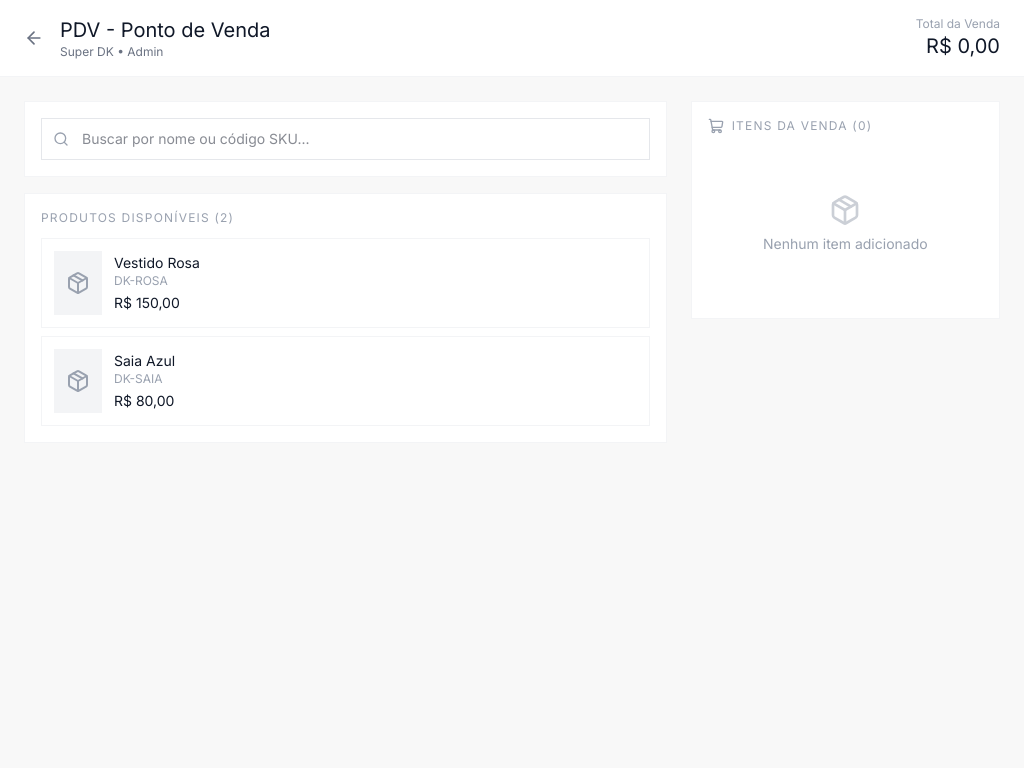
Test: Cashier (PDV) › não abre o fechamento com a venda vazia
The image size is (1024, 768).
Check: the text "Vestido Rosa" is shown, box [114,254,200,271]
Click the button "Vestido Rosa DK-ROSA R$ 150,00" at [78, 283], box [41,238,650,328]
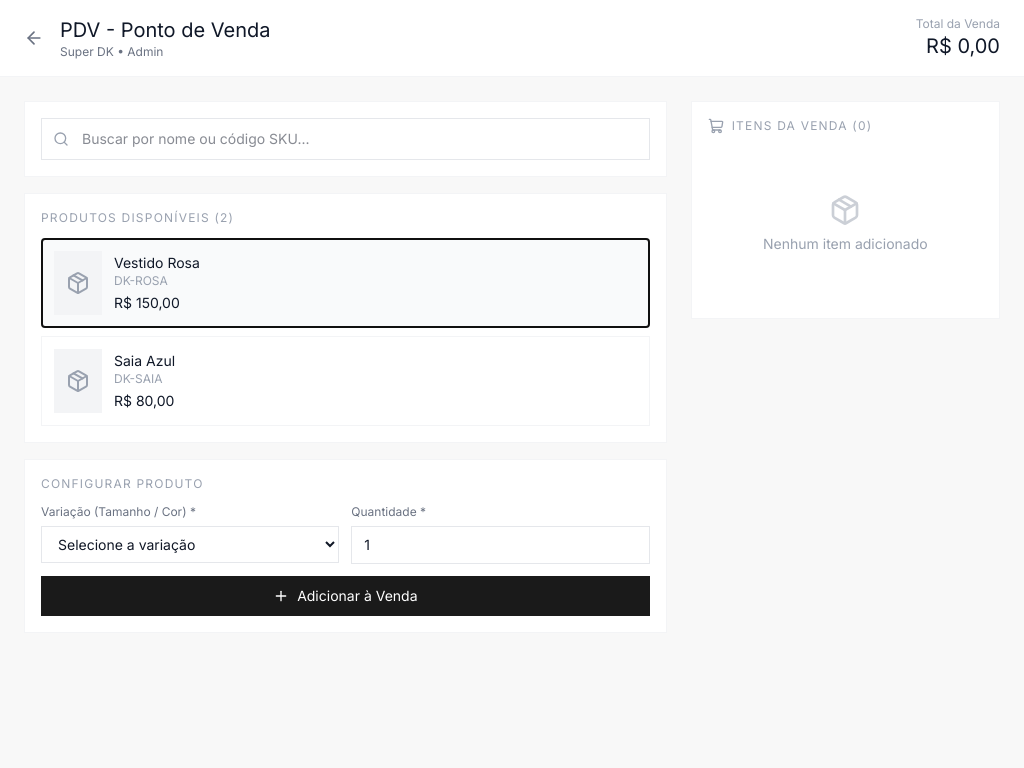
Select "P / Rosa (R$ 200.00)" in the dropdown at [190, 544], box [41,526,339,563]
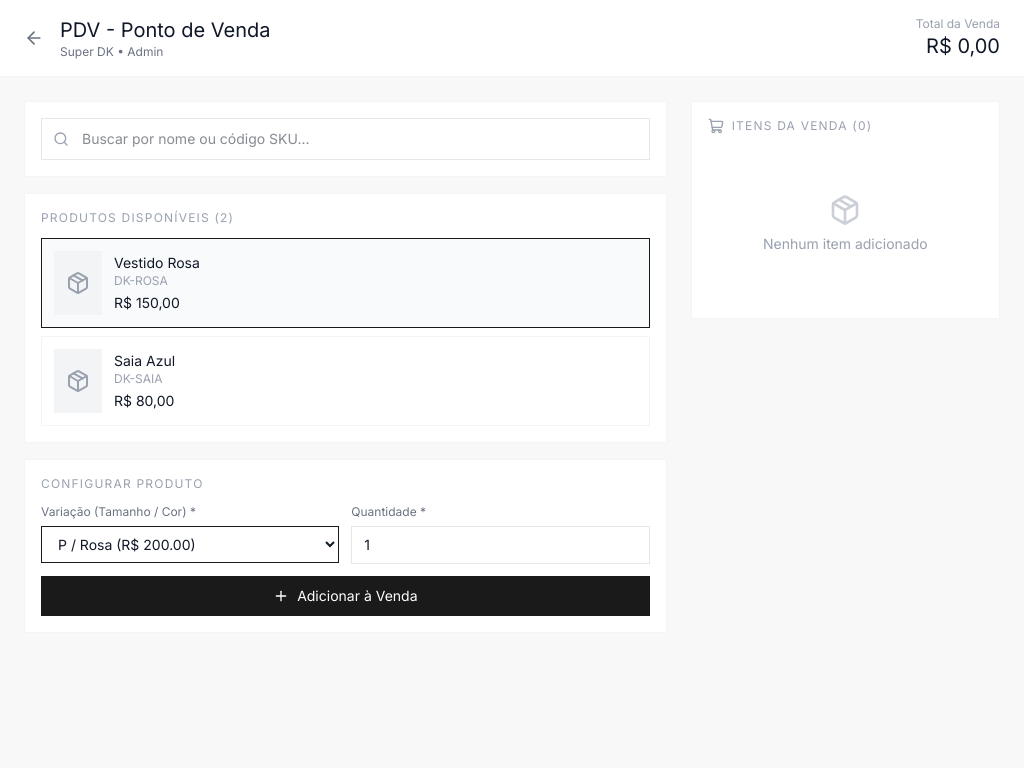
Replace the text in the number field with "2" at [500, 545], box [351,526,650,564]
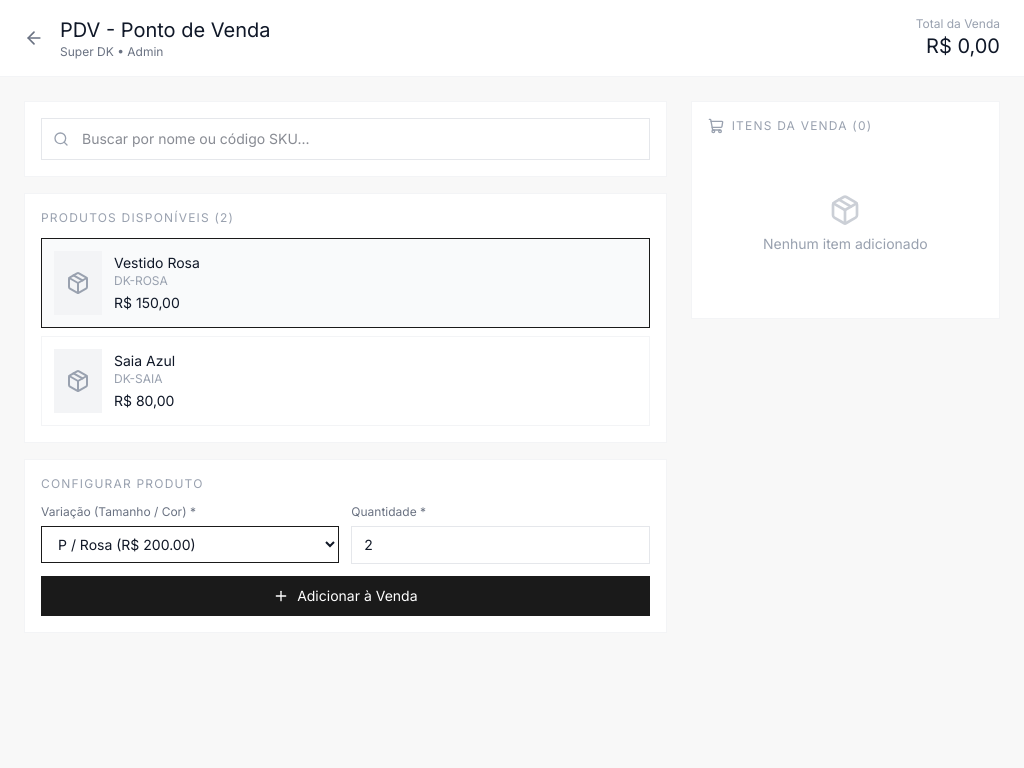
Click the button "Adicionar à Venda" at [345, 596], box [41,576,650,616]
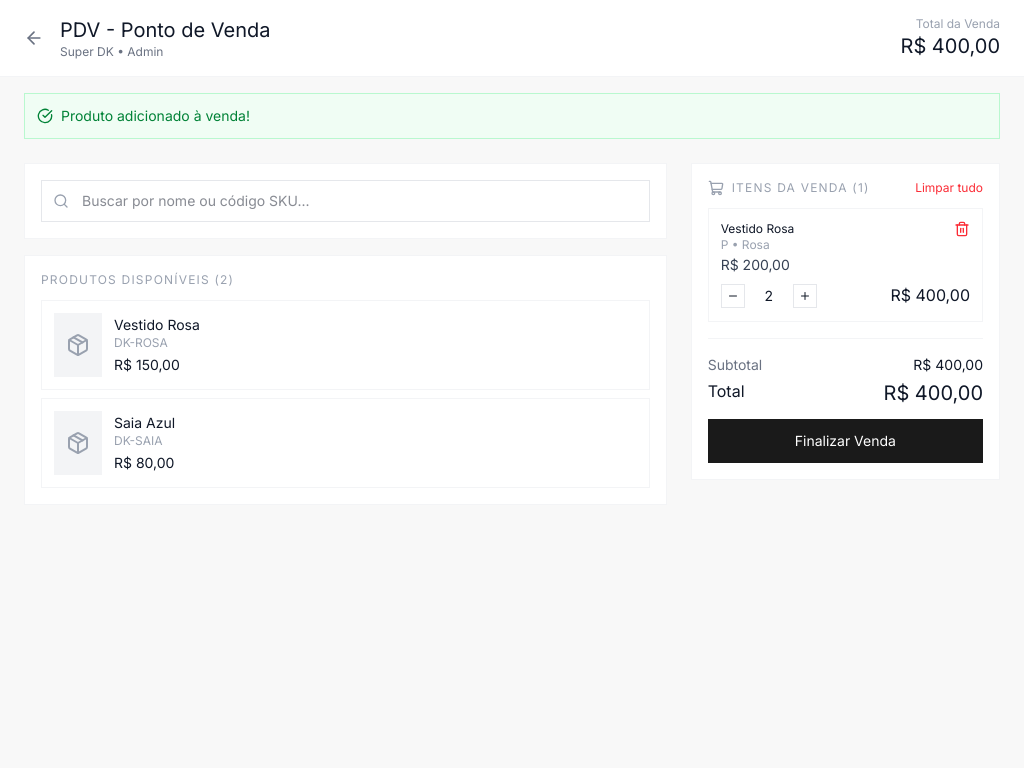
Click the button "Limpar tudo" at [949, 188], box [915,180,983,196]
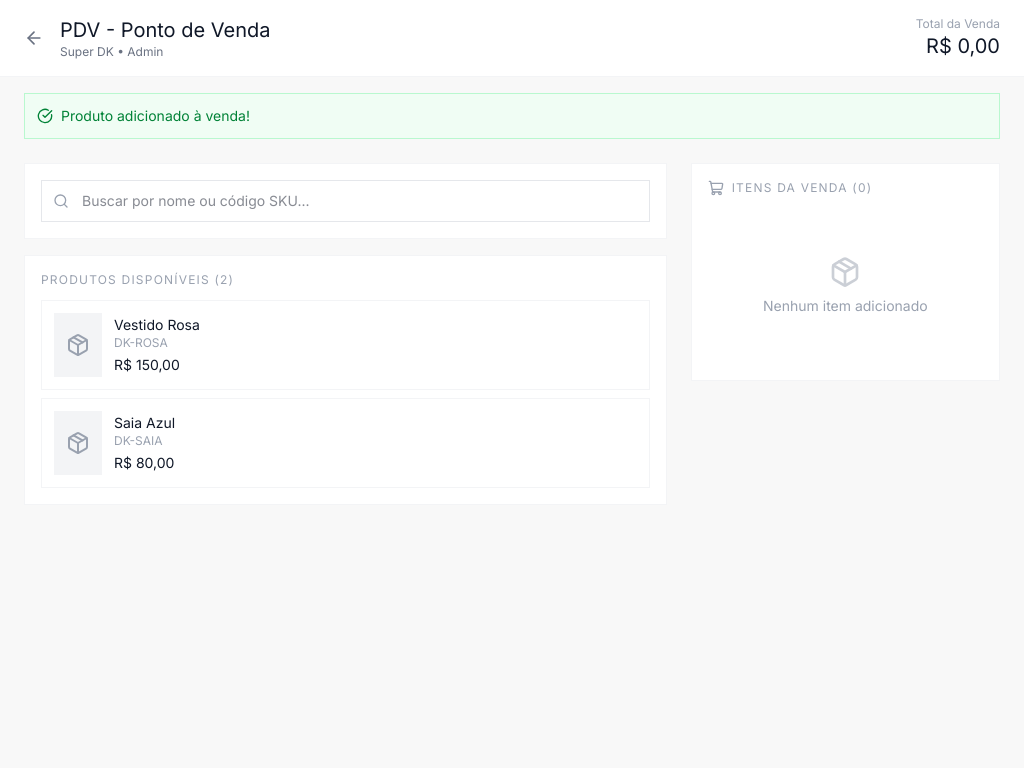
Check: the button "Finalizar Venda" is gone
